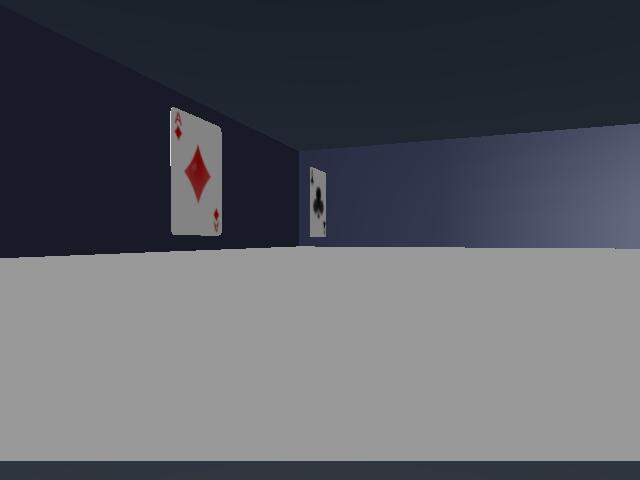club: (310, 167, 325, 236)
diamond: (170, 108, 221, 235)
